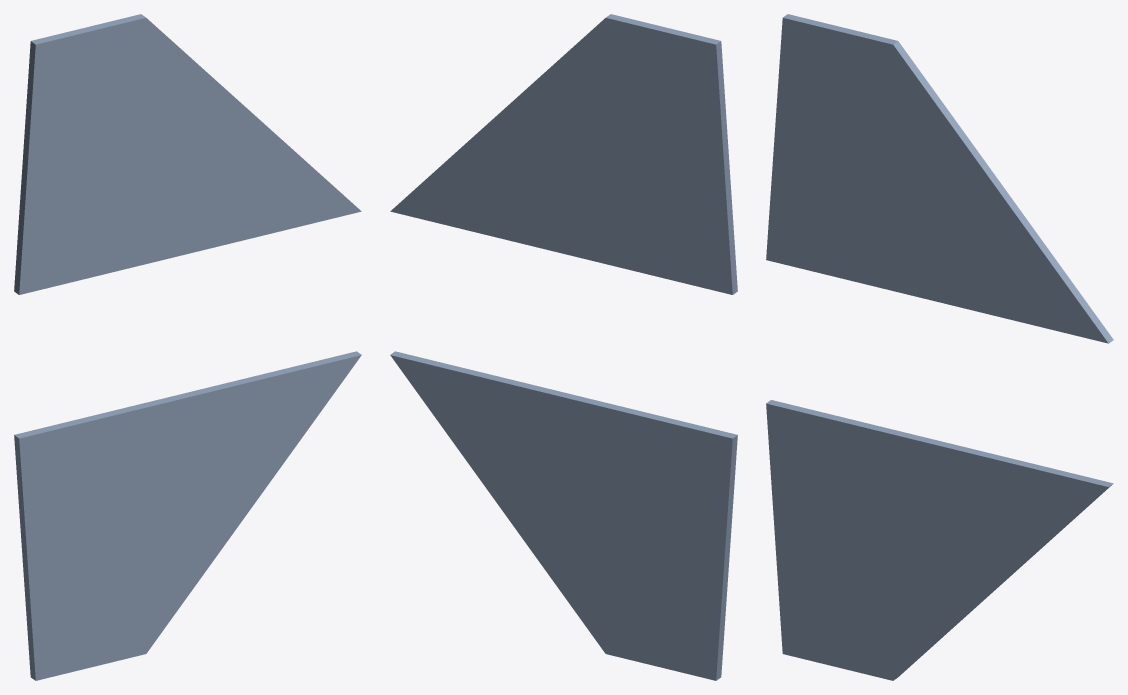
Rendered from f16_stab_blue.glb.
3 renders of one model, left to right at view 1: azimuth 30°, elevation 25°; view 2: azimuth 150°, elevation 25°; view 3: azimuth 330°, elevation 25°, orthographic.
Visible parts, largest first — view 1: stab1, stab0; view 2: stab1, stab0; view 3: stab0, stab1.
Part boxes in pixels (<box>): stab1: <box>14,351,361,680</box>; stab0: <box>14,14,361,294</box>; stab1: <box>390,351,737,680</box>; stab0: <box>390,14,737,294</box>; stab0: <box>766,14,1113,343</box>; stab1: <box>766,400,1113,680</box>.
Bounding box in the file's own units: 3.1 × 5.5 × 0.08.
